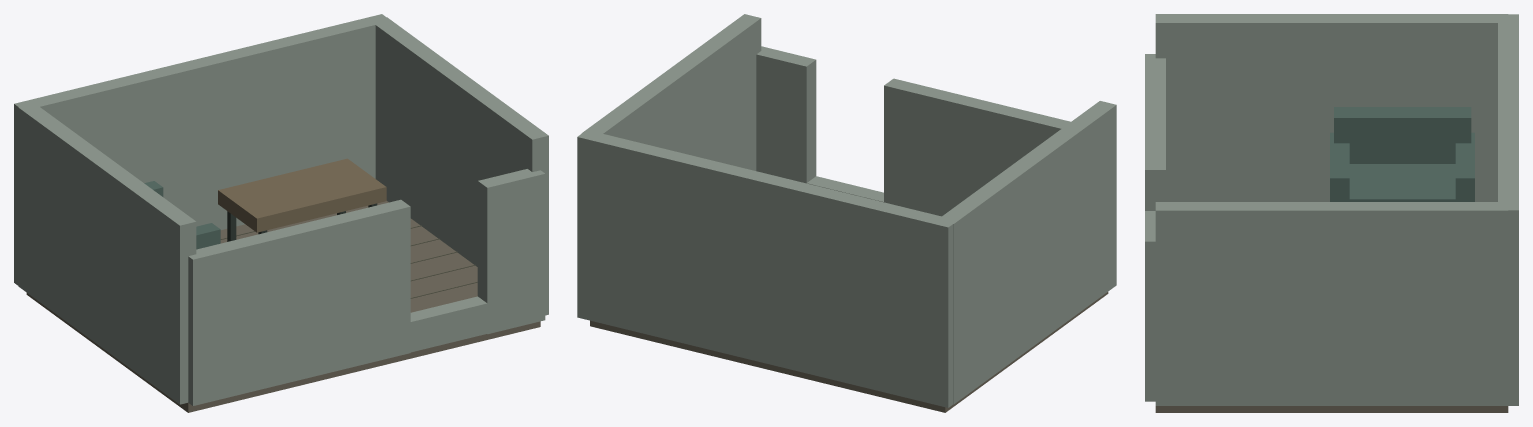
File: demo-room.glb
The picture shows the model from 3 angles, left to right: view 1: azimuth 30°, elevation 25°; view 2: azimuth 150°, elevation 25°; view 3: azimuth 270°, elevation 25°; orthographic projection. The views are drawn at different scales.
Size of the model in its own units: 3.56 by 1.74 by 2.86.
